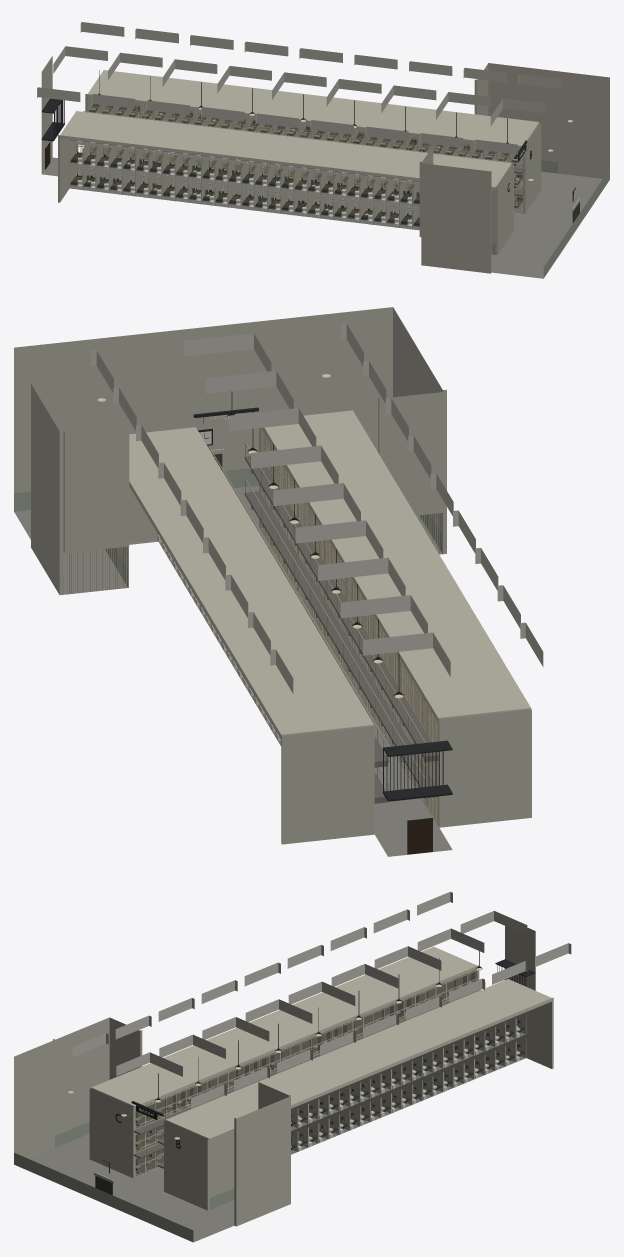
The model's file is alcatraz_int.glb.
3 views of the same model, one above another, from view 1: azimuth 30°, elevation 25°; view 2: azimuth 150°, elevation 25°; view 3: azimuth 270°, elevation 25° (orthographic). The views are drawn at different scales.
Parts seen in each view (by area): view 1: I_x_plaster, I_concrete, I_metal, I_x_velvet, I_tiles, I_d_x_velvet, I_x_veneer, I_d_paint; view 2: I_x_plaster, I_concrete, I_metal, I_x_veneer; view 3: I_x_plaster, I_concrete, I_metal, I_tiles, I_d_x_velvet, I_x_velvet.
Part boxes in pixels (box(x1,y1,x2,y2)): I_x_plaster: box(37, 22, 609, 278); I_concrete: box(42, 70, 602, 278); I_metal: box(41, 70, 579, 226); I_x_velvet: box(70, 104, 522, 225); I_tiles: box(77, 140, 411, 229); I_d_x_velvet: box(71, 106, 522, 224); I_x_veneer: box(45, 142, 501, 216); I_d_paint: box(77, 111, 522, 215); I_x_plaster: box(14, 307, 543, 844); I_concrete: box(14, 410, 531, 856); I_metal: box(63, 375, 452, 824); I_x_veneer: box(407, 818, 432, 854); I_x_plaster: box(14, 891, 571, 1242); I_concrete: box(28, 946, 551, 1241); I_metal: box(95, 951, 535, 1195); I_tiles: box(291, 1027, 520, 1154); I_d_x_velvet: box(135, 982, 524, 1168); I_x_velvet: box(135, 980, 524, 1169).
Size of the model in its own units: 61.89 by 13.7 by 62.55.
